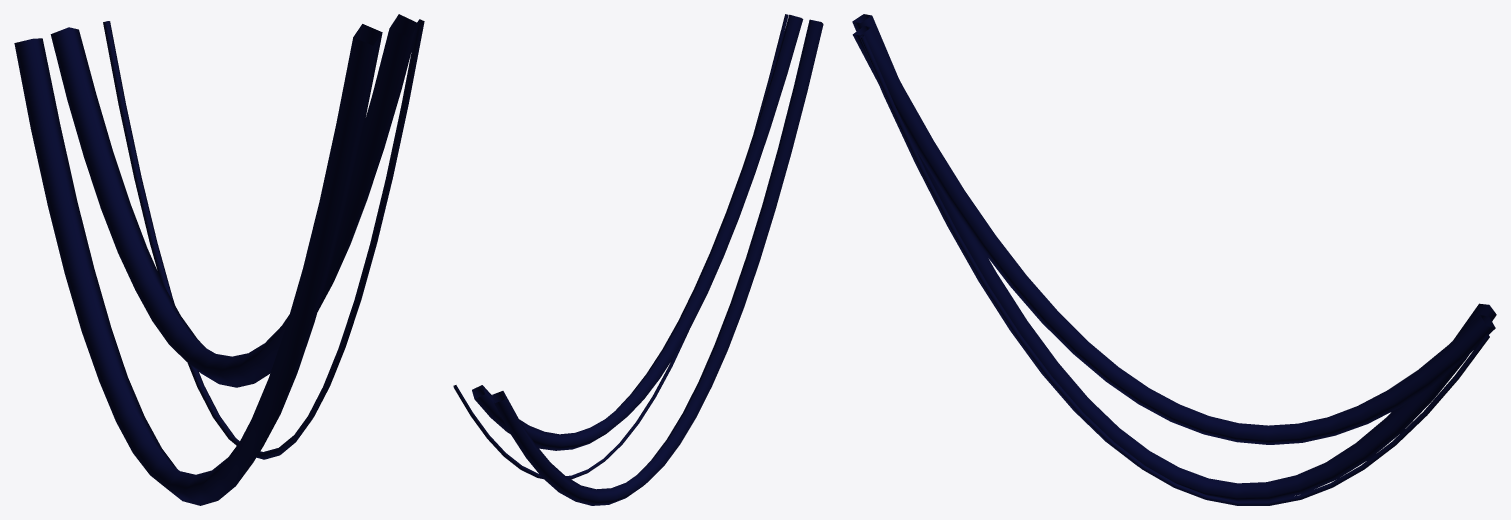
Rendered from Cables1.fbx.
3 views of the same model, side by side, from view 1: azimuth 30°, elevation 25°; view 2: azimuth 150°, elevation 25°; view 3: azimuth 270°, elevation 25° (orthographic). The views are drawn at different scales.
Parts seen in each view (by area): view 1: Catenary; view 2: Catenary; view 3: Catenary.
Boxes of the visible parts, box(x1,y1,x2,y2) form: Catenary: box(14, 14, 424, 505); Catenary: box(453, 14, 823, 505); Catenary: box(852, 14, 1496, 505).
Size of the model in its own units: 130 by 400 by 503.
